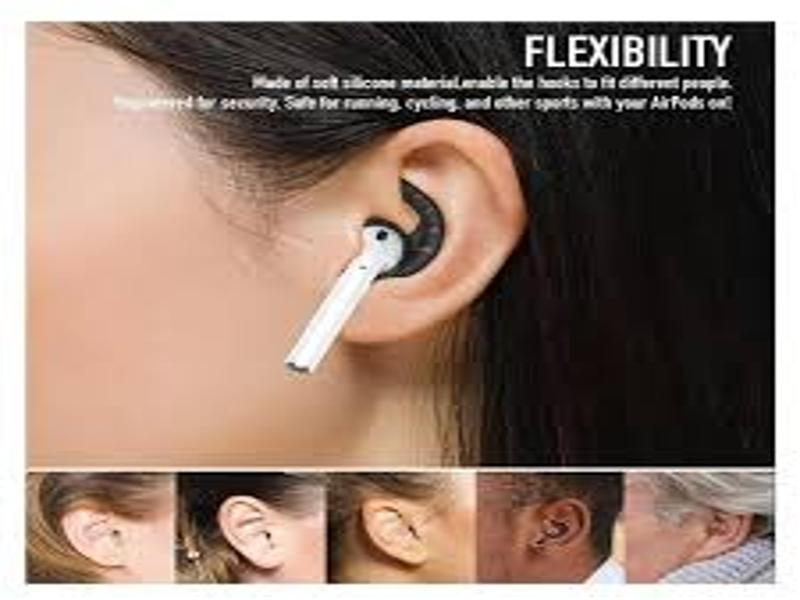headphone: (284, 177, 447, 377)
